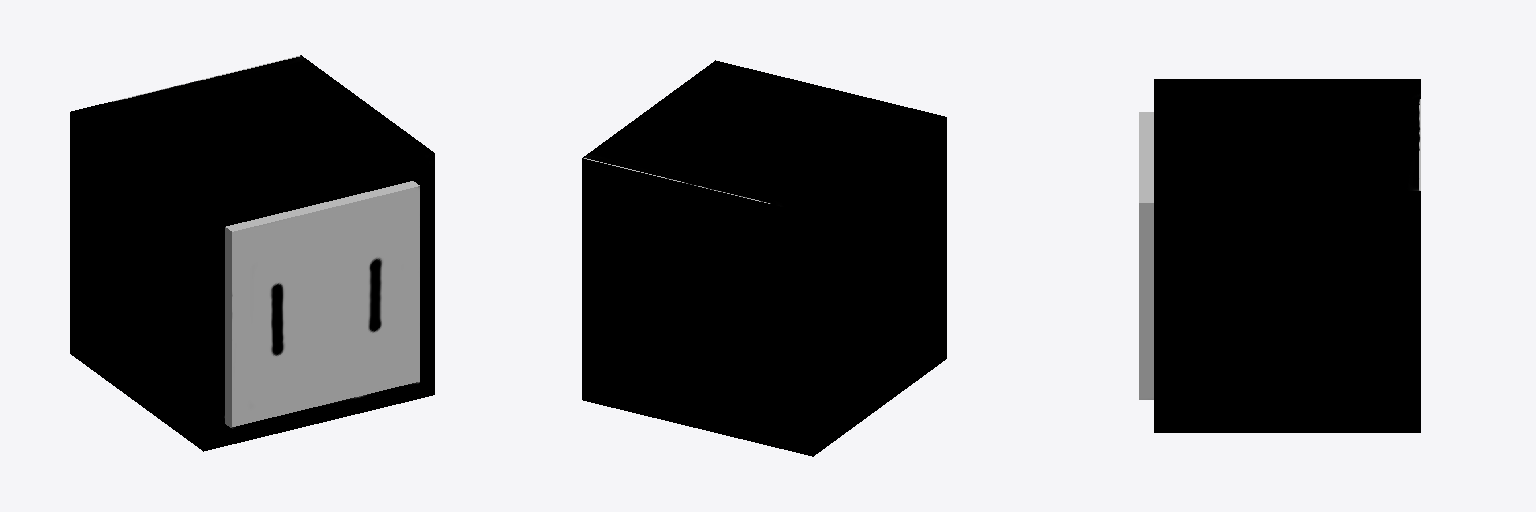
3 renders of one model, left to right at view 1: azimuth 30°, elevation 25°; view 2: azimuth 150°, elevation 25°; view 3: azimuth 270°, elevation 25°, orthographic.
Visible parts, largest first — view 1: 立方体.001_立方体.003; view 2: 立方体.001_立方体.003; view 3: 立方体.001_立方体.003.
Part boxes in pixels (left/top/right/bottom): 立方体.001_立方体.003: left=70, top=55, right=434, bottom=451; 立方体.001_立方体.003: left=582, top=60, right=946, bottom=456; 立方体.001_立方体.003: left=1139, top=79, right=1420, bottom=432.
Size of the model in its own units: 2 by 2 by 2.11.
Materials: 1 (1 with a texture image).